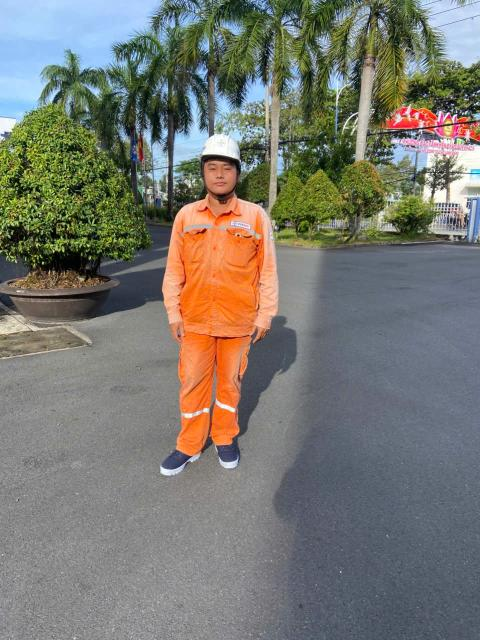helmet: (182, 122, 260, 170)
shoes: (153, 430, 208, 478), (209, 426, 243, 474)
